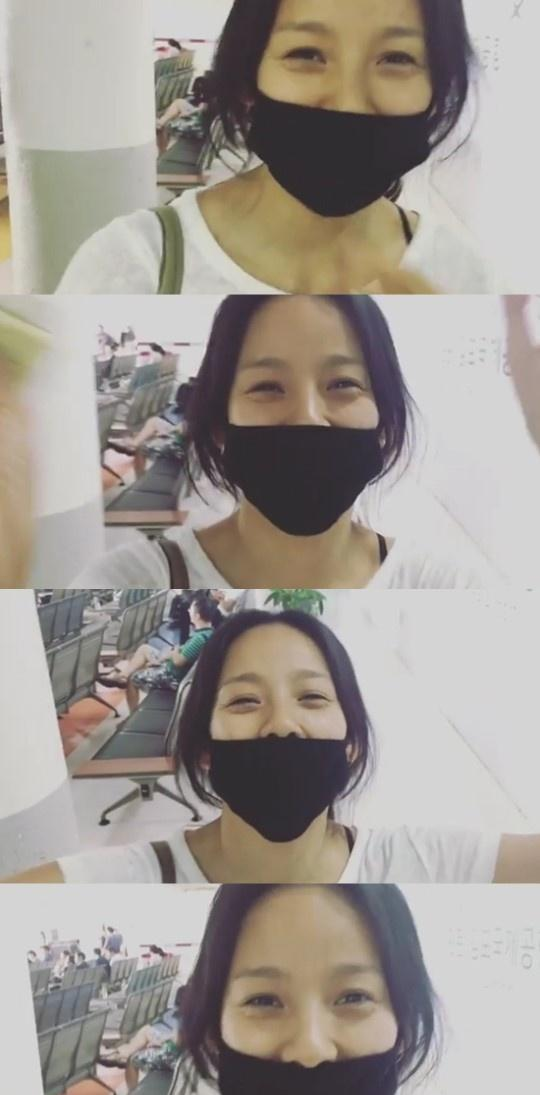WRONG: (259, 11, 462, 214), (214, 351, 396, 533), (205, 666, 383, 844), (211, 946, 407, 1095)
